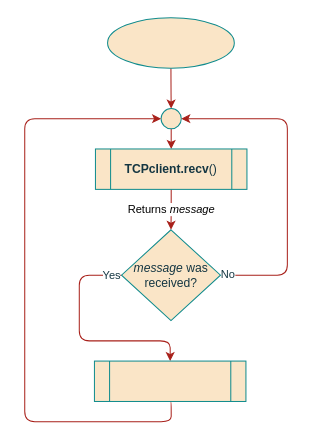
Some shapes in this 313 by 447 pixel diagram are drawn without their labels. The centre of each missing label's shape, as x and y in pixels:
"LoraComm.push ( message)" belongs at point 169,380.
"tTCPRecv" belongs at point 170,42.
